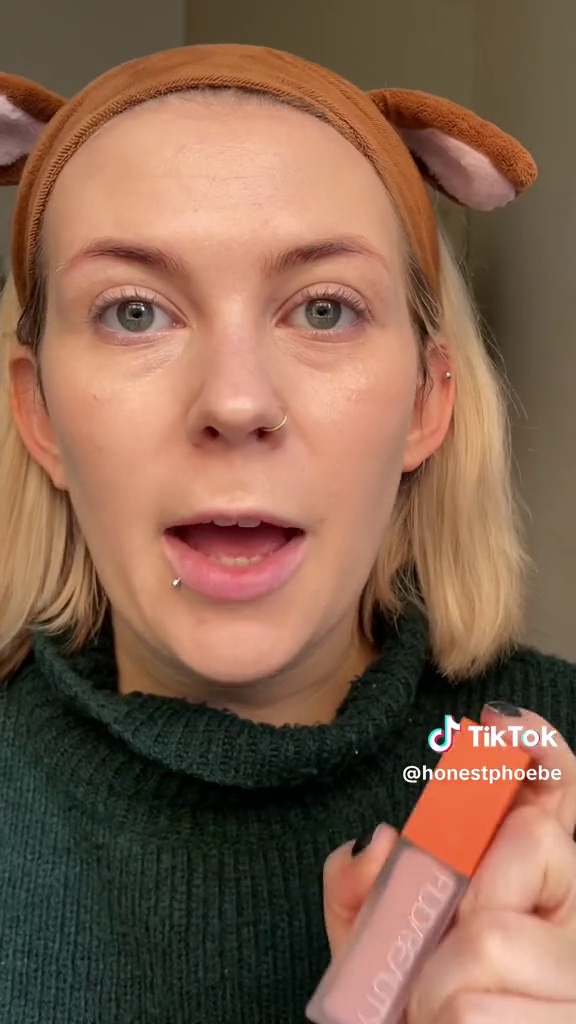train' :'yolo_data/train/images',: (297, 719, 535, 1023)
